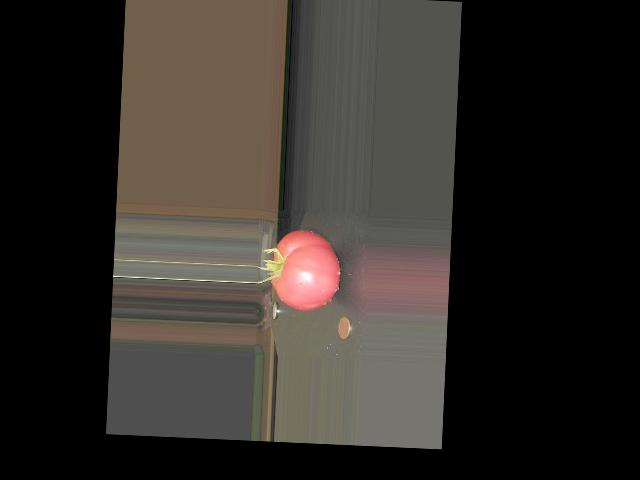tomato: (270, 228, 342, 311)
